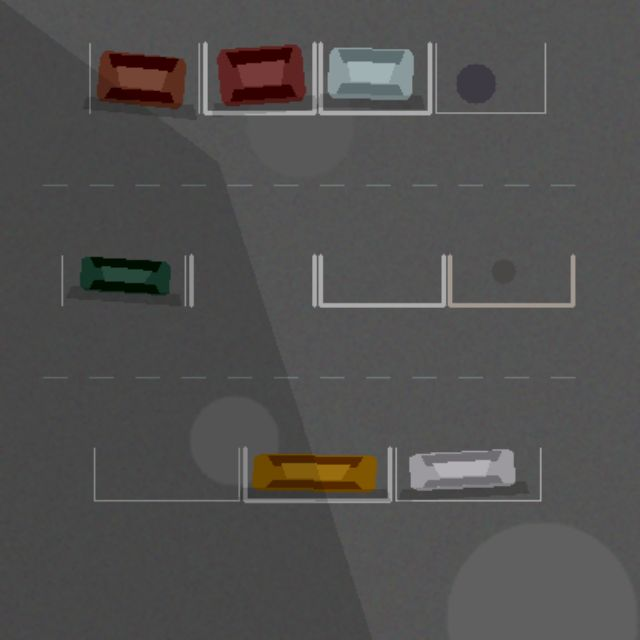space-empty: (435, 43, 545, 112), (94, 448, 238, 500), (191, 255, 314, 305), (320, 255, 443, 305), (449, 255, 572, 305)
space-occupied: (395, 448, 540, 500), (89, 43, 198, 112), (205, 43, 314, 112), (320, 43, 429, 112), (245, 448, 389, 500), (62, 255, 185, 305)
